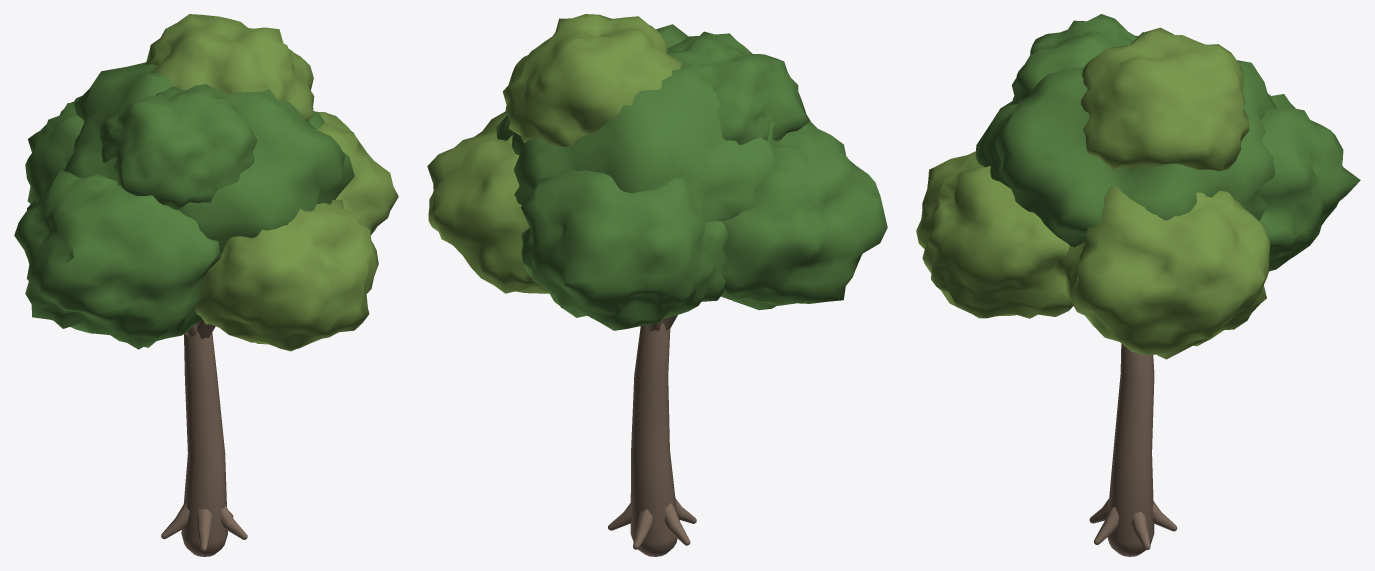
The model's file is tree_round.glb.
3 views of the same model, side by side, from view 1: azimuth 30°, elevation 25°; view 2: azimuth 150°, elevation 25°; view 3: azimuth 270°, elevation 25° (orthographic). The views are drawn at different scales.
Visible parts, largest first — view 1: tree_round; view 2: tree_round; view 3: tree_round.
Boxes of the visible parts, left/top/right/bottom form: tree_round: left=14, top=14, right=398, bottom=556; tree_round: left=427, top=14, right=887, bottom=556; tree_round: left=916, top=14, right=1360, bottom=556.
Bounding box in the file's own units: 3.74 × 4.81 × 3.68.
